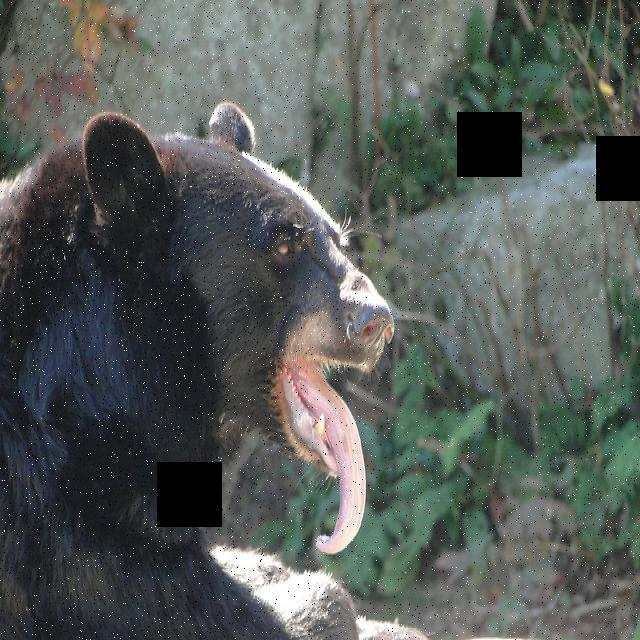Bear: (0, 103, 404, 635)
